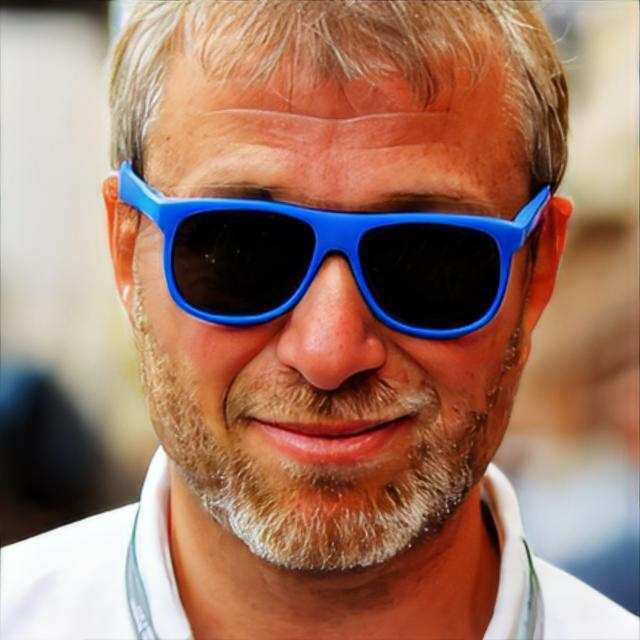content: (136, 36, 530, 574)
